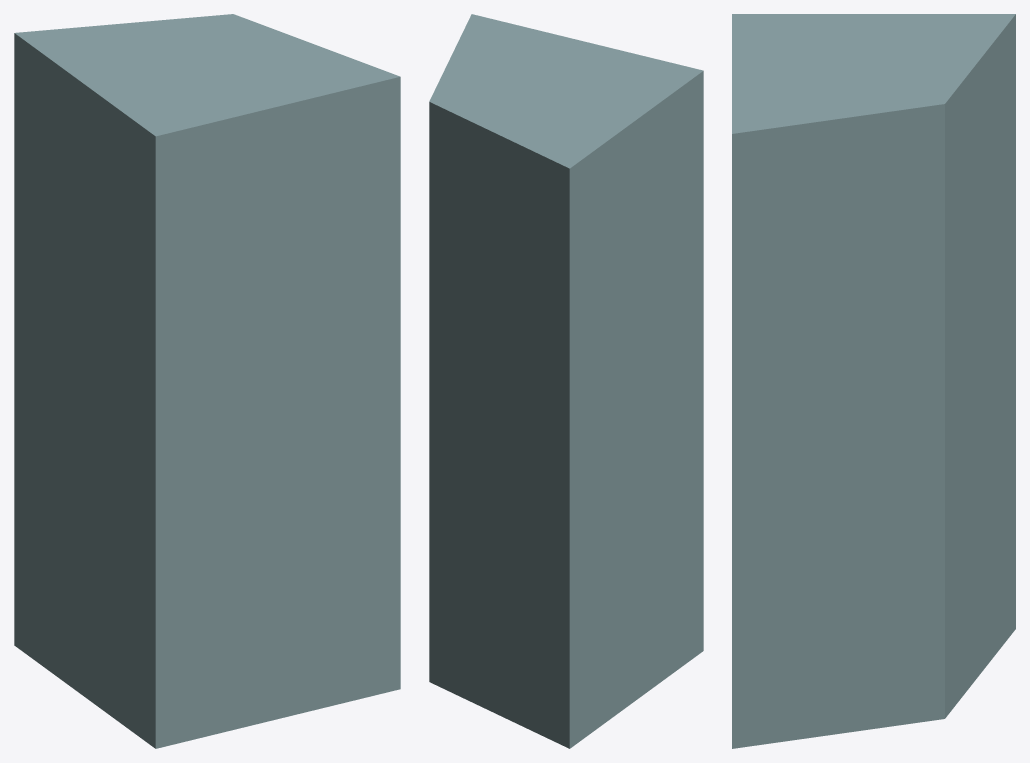
The model's file is cliff_cornerLarge_stone.glb.
The picture shows the model from 3 angles, left to right: view 1: azimuth 30°, elevation 25°; view 2: azimuth 150°, elevation 25°; view 3: azimuth 270°, elevation 25°; orthographic projection. The views are drawn at different scales.
Parts seen in each view (by area): view 1: cliff_cornerLarge_stone; view 2: cliff_cornerLarge_stone; view 3: cliff_cornerLarge_stone.
Boxes of the visible parts, x1=… form: cliff_cornerLarge_stone: x1=14, y1=14, x2=400, y2=748; cliff_cornerLarge_stone: x1=429, y1=14, x2=703, y2=748; cliff_cornerLarge_stone: x1=732, y1=14, x2=1015, y2=748.
Size of the model in its own units: 0.4861 by 1.16 by 0.4861.
